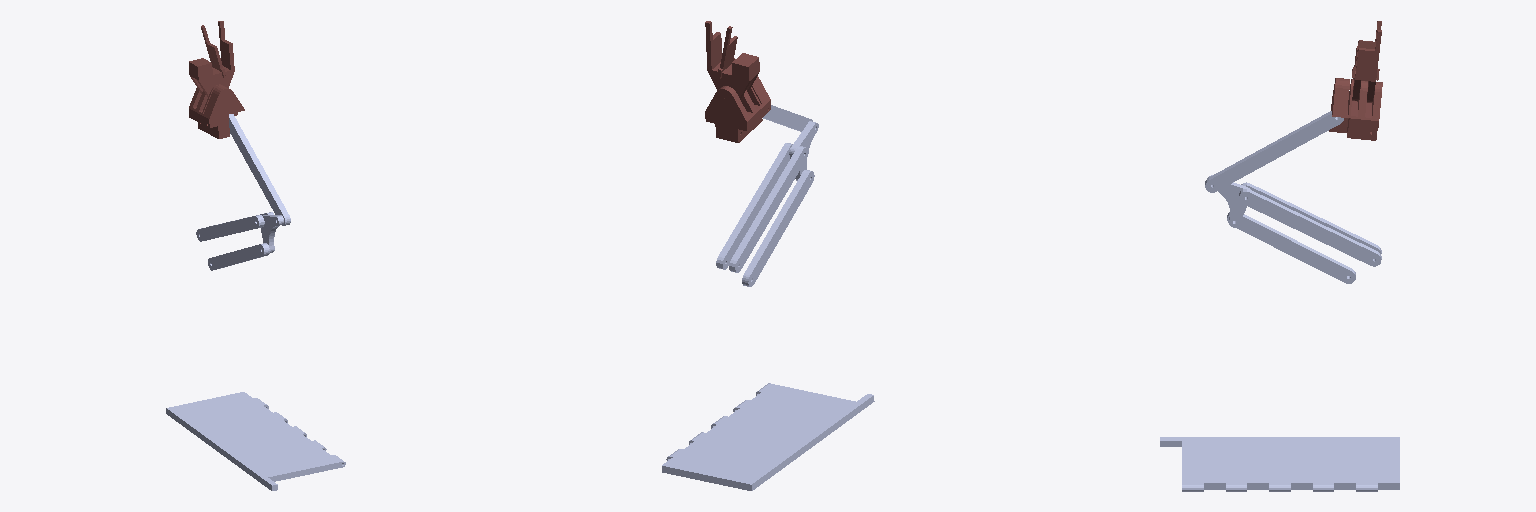
URDF robot description (URDF with fridge):
<?xml version="1.0" encoding="utf-8"?>
<!-- This URDF was automatically created by SolidWorks to URDF Exporter! Originally created by [author] ([email redacted]) 
     Commit Version: 1.6.0-4-g7f85cfe  Build Version: 1.6.7995.38578
     For more information, please see http://wiki.ros.org/sw_urdf_exporter -->
<robot
  name="URDF with fridge">
  <link
    name="base_link">
    <inertial>
      <origin
        xyz="0.0689431998771194 -0.0141220992321394 -0.300302033882626"
        rpy="0 0 0" />
      <mass
        value="5.73199162392309" />
      <inertia
        ixx="0.0472878884227461"
        ixy="-1.18684409079201E-05"
        ixz="-0.000695180601841699"
        iyy="0.0621317577117919"
        iyz="-3.4508866648248E-05"
        izz="0.0549594182577516" />
    </inertial>
    <visual>
      <origin
        xyz="0 0 0"
        rpy="0 0 0" />
      <geometry>
        <mesh
          filename="package://URDF with fridge/meshes/base_link.STL" />
      </geometry>
      <material
        name="">
        <color
          rgba="0.792156862745098 0.819607843137255 0.933333333333333 1" />
      </material>
    </visual>
    <collision>
      <origin
        xyz="0 0 0"
        rpy="0 0 0" />
      <geometry>
        <mesh
          filename="package://URDF with fridge/meshes/base_link.STL" />
      </geometry>
    </collision>
  </link>
  <link
    name="fridgeDoor">
    <inertial>
      <origin
        xyz="0.0736569393881498 0.114201229135015 -3.33066907387547E-16"
        rpy="0 0 0" />
      <mass
        value="0.433445243112743" />
      <inertia
        ixx="0.00331287924753315"
        ixy="-2.13930954220293E-05"
        ixz="1.72257837770235E-18"
        iyy="0.000759449566054937"
        iyz="4.86624442614954E-18"
        izz="0.00406508938639499" />
    </inertial>
    <visual>
      <origin
        xyz="0 0 0"
        rpy="0 0 0" />
      <geometry>
        <mesh
          filename="package://URDF with fridge/meshes/fridgeDoor.STL" />
      </geometry>
      <material
        name="">
        <color
          rgba="0.792156862745098 0.819607843137255 0.933333333333333 1" />
      </material>
    </visual>
    <collision>
      <origin
        xyz="0 0 0"
        rpy="0 0 0" />
      <geometry>
        <mesh
          filename="package://URDF with fridge/meshes/fridgeDoor.STL" />
      </geometry>
    </collision>
  </link>
  <joint
    name="F1"
    type="continuous">
    <origin
      xyz="0.13865629709213 0 -0.283835687229188"
      rpy="0 -0.030784802234591 -3.14159265358979" />
    <parent
      link="base_link" />
    <child
      link="fridgeDoor" />
    <axis
      xyz="0 -1 0" />
  </joint>
  <link
    name="turning_base">
    <inertial>
      <origin
        xyz="-0.0267697026327348 0.00488148698796461 0.0222183347728628"
        rpy="0 0 0" />
      <mass
        value="0.19237125582213" />
      <inertia
        ixx="0.000135901413995399"
        ixy="-1.33820761853295E-06"
        ixz="2.84315818360693E-06"
        iyy="0.000156555561267971"
        iyz="2.6996128156746E-06"
        izz="0.000197919660234674" />
    </inertial>
    <visual>
      <origin
        xyz="0 0 0"
        rpy="0 0 0" />
      <geometry>
        <mesh
          filename="package://URDF with fridge/meshes/turning_base.STL" />
      </geometry>
      <material
        name="">
        <color
          rgba="0.792156862745098 0.819607843137255 0.933333333333333 1" />
      </material>
    </visual>
    <collision>
      <origin
        xyz="0 0 0"
        rpy="0 0 0" />
      <geometry>
        <mesh
          filename="package://URDF with fridge/meshes/turning_base.STL" />
      </geometry>
    </collision>
  </link>
  <joint
    name="J1"
    type="continuous">
    <origin
      xyz="0.0660497283649592 0.0323022563864429 0.0145420702819405"
      rpy="1.5707963267949 -0.00401861891135302 0" />
    <parent
      link="base_link" />
    <child
      link="turning_base" />
    <axis
      xyz="0 0 -1" />
  </joint>
  <link
    name="lowerFront">
    <inertial>
      <origin
        xyz="-2.22044604925031E-16 -0.0999111796922045 -0.00999999999999947"
        rpy="0 0 0" />
      <mass
        value="0.0855737940510451" />
      <inertia
        ixx="0.000328606447348668"
        ixy="-8.20986684126231E-19"
        ixz="-4.72153637505962E-22"
        iyy="3.53584860057504E-06"
        iyz="-2.15784962745792E-16"
        izz="0.000330716066048393" />
    </inertial>
    <visual>
      <origin
        xyz="0 0 0"
        rpy="0 0 0" />
      <geometry>
        <mesh
          filename="package://URDF with fridge/meshes/lowerFront.STL" />
      </geometry>
      <material
        name="">
        <color
          rgba="0.792156862745098 0.819607843137255 0.933333333333333 1" />
      </material>
    </visual>
    <collision>
      <origin
        xyz="0 0 0"
        rpy="0 0 0" />
      <geometry>
        <mesh
          filename="package://URDF with fridge/meshes/lowerFront.STL" />
      </geometry>
    </collision>
  </link>
  <joint
    name="J2"
    type="revolute">
    <origin
      xyz="-0.0274999999999557 0.0125000000000202 0.0300000000015584"
      rpy="-1.57079632679639 0.490375448312762 1.5707963267945" />
    <parent
      link="turning_base" />
    <child
      link="lowerFront" />
    <axis
      xyz="0.470957125376388 0.882156100731162 0" />
    <limit
      lower="0"
      upper="6.288"
      effort="0"
      velocity="0" />
  </joint>
  <link
    name="triangle">
    <inertial>
      <origin
        xyz="0.0128671162531902 0.0149668569116932 0.00499999999999999"
        rpy="0 0 0" />
      <mass
        value="0.0191246861766036" />
      <inertia
        ixx="5.62289539865078E-06"
        ixy="2.73395813990835E-06"
        ixz="-3.15454872629373E-22"
        iyy="4.65318566936928E-06"
        iyz="3.74745449762105E-22"
        izz="9.95733629841E-06" />
    </inertial>
    <visual>
      <origin
        xyz="0 0 0"
        rpy="0 0 0" />
      <geometry>
        <mesh
          filename="package://URDF with fridge/meshes/triangle.STL" />
      </geometry>
      <material
        name="">
        <color
          rgba="0.792156862745098 0.819607843137255 0.933333333333333 1" />
      </material>
    </visual>
    <collision>
      <origin
        xyz="0 0 0"
        rpy="0 0 0" />
      <geometry>
        <mesh
          filename="package://URDF with fridge/meshes/triangle.STL" />
      </geometry>
    </collision>
  </link>
  <joint
    name="J3"
    type="continuous">
    <origin
      xyz="0 -0.199999999999989 -0.0150000000000651"
      rpy="0 0 3.0192892910529" />
    <parent
      link="lowerFront" />
    <child
      link="triangle" />
    <axis
      xyz="0 0 1" />
  </joint>
  <link
    name="upperHalfbacklink">
    <inertial>
      <origin
        xyz="0.0414635494994406 5.62050406216485E-16 0.00499999999999991"
        rpy="0 0 0" />
      <mass
        value="0.0193744467859455" />
      <inertia
        ixx="8.00416835228508E-07"
        ixy="1.14349447879331E-20"
        ixz="1.47050174175862E-21"
        iyy="1.54913654040111E-05"
        iyz="-3.70090868325708E-23"
        izz="1.59688747928072E-05" />
    </inertial>
    <visual>
      <origin
        xyz="0 0 0"
        rpy="0 0 0" />
      <geometry>
        <mesh
          filename="package://URDF with fridge/meshes/upperHalfbacklink.STL" />
      </geometry>
      <material
        name="">
        <color
          rgba="0.792156862745098 0.819607843137255 0.933333333333333 1" />
      </material>
    </visual>
    <collision>
      <origin
        xyz="0 0 0"
        rpy="0 0 0" />
      <geometry>
        <mesh
          filename="package://URDF with fridge/meshes/upperHalfbacklink.STL" />
      </geometry>
    </collision>
  </link>
  <joint
    name="J5"
    type="continuous">
    <origin
      xyz="0.0450000000000081 0 0.0199999999999996"
      rpy="3.14159265358979 0 -1.43084807582469" />
    <parent
      link="triangle" />
    <child
      link="upperHalfbacklink" />
    <axis
      xyz="0 0 -1" />
  </joint>
  <link
    name="upperHalfFrontlink">
    <inertial>
      <origin
        xyz="0.0463904561233809 -6.45317133063372E-14 7.9956874454723E-14"
        rpy="0 0 0" />
      <mass
        value="0.0214124502395769" />
      <inertia
        ixx="8.84174131725659E-07"
        ixy="-2.26260234963957E-17"
        ixz="3.03407180299729E-17"
        iyy="2.08029877158262E-05"
        iyz="-9.12136632753397E-24"
        izz="2.13302876768922E-05" />
    </inertial>
    <visual>
      <origin
        xyz="0 0 0"
        rpy="0 0 0" />
      <geometry>
        <mesh
          filename="package://URDF with fridge/meshes/upperHalfFrontlink.STL" />
      </geometry>
      <material
        name="">
        <color
          rgba="0.792156862745098 0.819607843137255 0.933333333333333 1" />
      </material>
    </visual>
    <collision>
      <origin
        xyz="0 0 0"
        rpy="0 0 0" />
      <geometry>
        <mesh
          filename="package://URDF with fridge/meshes/upperHalfFrontlink.STL" />
      </geometry>
    </collision>
  </link>
  <joint
    name="J6"
    type="continuous">
    <origin
      xyz="0 0.0500000000000889 -0.00499999999985195"
      rpy="3.14159265358979 0 -2.48003154709769" />
    <parent
      link="triangle" />
    <child
      link="upperHalfFrontlink" />
    <axis
      xyz="0 0 -1" />
  </joint>
  <link
    name="lowerfrontLink">
    <inertial>
      <origin
        xyz="2.77555756156289E-17 -0.0863342210093204 0.0247054628952012"
        rpy="0 0 0" />
      <mass
        value="0.0953394410565643" />
      <inertia
        ixx="0.000470411650298866"
        ixy="5.4315987742682E-19"
        ixz="1.51753137276197E-21"
        iyy="3.95014826174653E-06"
        iyz="-3.09405752680569E-16"
        izz="0.000472772807876337" />
    </inertial>
    <visual>
      <origin
        xyz="0 0 0"
        rpy="0 0 0" />
      <geometry>
        <mesh
          filename="package://URDF with fridge/meshes/lowerfrontLink.STL" />
      </geometry>
      <material
        name="">
        <color
          rgba="0.792156862745098 0.819607843137255 0.933333333333333 1" />
      </material>
    </visual>
    <collision>
      <origin
        xyz="0 0 0"
        rpy="0 0 0" />
      <geometry>
        <mesh
          filename="package://URDF with fridge/meshes/lowerfrontLink.STL" />
      </geometry>
    </collision>
  </link>
  <joint
    name="J4"
    type="revolute">
    <origin
      xyz="0 -0.2 0.01"
      rpy="3.1416 0 -1.0177" />
    <parent
      link="lowerFront" />
    <child
      link="lowerfrontLink" />
    <axis
      xyz="0 0 -1" />
    <limit
      lower="0"
      upper="6.288"
      effort="0"
      velocity="0" />
  </joint>
  <link
    name="backhalfGripper">
    <inertial>
      <origin
        xyz="-0.0250028133017937 0.0239301160957166 0.00141734074678149"
        rpy="0 0 0" />
      <mass
        value="1.53802958602338" />
      <inertia
        ixx="0.000909413538569685"
        ixy="8.26533997142431E-05"
        ixz="-2.76680034671548E-05"
        iyy="0.000912566548096114"
        iyz="-4.94357740447192E-05"
        izz="0.00115501581802408" />
    </inertial>
    <visual>
      <origin
        xyz="0 0 0"
        rpy="0 0 0" />
      <geometry>
        <mesh
          filename="package://URDF with fridge/meshes/backhalfGripper.STL" />
      </geometry>
      <material
        name="">
        <color
          rgba="0.537254901960784 0.349019607843137 0.337254901960784 1" />
      </material>
    </visual>
    <collision>
      <origin
        xyz="0 0 0"
        rpy="0 0 0" />
      <geometry>
        <mesh
          filename="package://URDF with fridge/meshes/backhalfGripper.STL" />
      </geometry>
    </collision>
  </link>
  <joint
    name="J7"
    type="continuous">
    <origin
      xyz="0 -0.2 0.022327"
      rpy="3.1416 0 2.5048" />
    <parent
      link="lowerfrontLink" />
    <child
      link="backhalfGripper" />
    <axis
      xyz="0 0 0" />
  </joint>
  <link
    name="frontGripper">
    <inertial>
      <origin
        xyz="-0.000216464748702488 0.0283235783013317 0.0142900639859024"
        rpy="0 0 0" />
      <mass
        value="0.558596679661737" />
      <inertia
        ixx="0.000309404274315498"
        ixy="-3.91459968046765E-05"
        ixz="3.65468624887361E-06"
        iyy="0.000256279098899188"
        iyz="8.0770060142967E-06"
        izz="0.00046459335100017" />
    </inertial>
    <visual>
      <origin
        xyz="0 0 0"
        rpy="0 0 0" />
      <geometry>
        <mesh
          filename="package://URDF with fridge/meshes/frontGripper.STL" />
      </geometry>
      <material
        name="">
        <color
          rgba="0.537254901960784 0.349019607843137 0.337254901960784 1" />
      </material>
    </visual>
    <collision>
      <origin
        xyz="0 0 0"
        rpy="0 0 0" />
      <geometry>
        <mesh
          filename="package://URDF with fridge/meshes/frontGripper.STL" />
      </geometry>
    </collision>
  </link>
  <joint
    name="J8"
    type="revolute">
    <origin
      xyz="-0.054 0.0035 -8.2845E-05"
      rpy="1.5708 1.5515 -3.1416" />
    <parent
      link="backhalfGripper" />
    <child
      link="frontGripper" />
    <axis
      xyz="0 0 0" />
    <limit
      lower="-1.57"
      upper="1.57"
      effort="0"
      velocity="0" />
  </joint>
  <link
    name="2ndHalfGripper">
    <inertial>
      <origin
        xyz="0.0309607104904639 -4.59355418674923E-05 0.0171444074906643"
        rpy="0 0 0" />
      <mass
        value="0.0686737389522782" />
      <inertia
        ixx="6.40644623542164E-06"
        ixy="-1.58915253494999E-10"
        ixz="3.10523081266725E-06"
        iyy="2.87092893917181E-05"
        iyz="3.68993537350604E-11"
        izz="2.25895985442529E-05" />
    </inertial>
    <visual>
      <origin
        xyz="0 0 0"
        rpy="0 0 0" />
      <geometry>
        <mesh
          filename="package://URDF with fridge/meshes/2ndHalfGripper.STL" />
      </geometry>
      <material
        name="">
        <color
          rgba="0.537254901960784 0.349019607843137 0.337254901960784 1" />
      </material>
    </visual>
    <collision>
      <origin
        xyz="0 0 0"
        rpy="0 0 0" />
      <geometry>
        <mesh
          filename="package://URDF with fridge/meshes/2ndHalfGripper.STL" />
      </geometry>
    </collision>
  </link>
  <joint
    name="J9"
    type="revolute">
    <origin
      xyz="0.012523 0.027447 -0.004"
      rpy="0 0 1.7772" />
    <parent
      link="frontGripper" />
    <child
      link="2ndHalfGripper" />
    <axis
      xyz="0 0 0" />
    <limit
      lower="-0.78"
      upper="78"
      effort="0"
      velocity="0" />
  </joint>
  <link
    name="lowerHalffrontlink">
    <inertial>
      <origin
        xyz="0.0463904561233884 -6.08402217494586E-14 7.99707522425308E-14"
        rpy="0 0 0" />
      <mass
        value="0.0214124502395769" />
      <inertia
        ixx="8.84174131725664E-07"
        ixy="-2.26194060514953E-17"
        ixz="3.03389346498544E-17"
        iyy="2.08029877158262E-05"
        iyz="-6.19824220911003E-23"
        izz="2.13302876768923E-05" />
    </inertial>
    <visual>
      <origin
        xyz="0 0 0"
        rpy="0 0 0" />
      <geometry>
        <mesh
          filename="package://URDF with fridge/meshes/lowerHalffrontlink.STL" />
      </geometry>
      <material
        name="">
        <color
          rgba="0.792156862745098 0.819607843137255 0.933333333333333 1" />
      </material>
    </visual>
    <collision>
      <origin
        xyz="0 0 0"
        rpy="0 0 0" />
      <geometry>
        <mesh
          filename="package://URDF with fridge/meshes/lowerHalffrontlink.STL" />
      </geometry>
    </collision>
  </link>
  <joint
    name="J10"
    type="continuous">
    <origin
      xyz="-0.015 0.05 -0.0074928"
      rpy="-3.1416 0 0.92013" />
    <parent
      link="backhalfGripper" />
    <child
      link="lowerHalffrontlink" />
    <axis
      xyz="0 0 0" />
  </joint>
  <link
    name="LowerHalfBacklink">
    <inertial>
      <origin
        xyz="0.0414635494994407 6.93889390390723E-18 0.00499999999999999"
        rpy="0 0 0" />
      <mass
        value="0.0193744467859455" />
      <inertia
        ixx="8.00416835228504E-07"
        ixy="-3.3881317890172E-21"
        ixz="4.52614911442815E-21"
        iyy="1.54913654040111E-05"
        iyz="1.88996064051875E-22"
        izz="1.59688747928072E-05" />
    </inertial>
    <visual>
      <origin
        xyz="0 0 0"
        rpy="0 0 0" />
      <geometry>
        <mesh
          filename="package://URDF with fridge/meshes/LowerHalfBacklink.STL" />
      </geometry>
      <material
        name="">
        <color
          rgba="0.792156862745098 0.819607843137255 0.933333333333333 1" />
      </material>
    </visual>
    <collision>
      <origin
        xyz="0 0 0"
        rpy="0 0 0" />
      <geometry>
        <mesh
          filename="package://URDF with fridge/meshes/LowerHalfBacklink.STL" />
      </geometry>
    </collision>
  </link>
  <joint
    name="J11"
    type="fixed">
    <origin
      xyz="-0.0225 -0.022855 0.065355"
      rpy="-1.5708 -1.0628 1.5708" />
    <parent
      link="turning_base" />
    <child
      link="LowerHalfBacklink" />
    <axis
      xyz="0 0 0" />
  </joint>
</robot>

--- What the picture shows (computed from the rendered views, not written in the file) ---
Views: 3 orthographic renders of the robot side by side, from view 1: azimuth 30°, elevation 25°; view 2: azimuth 150°, elevation 25°; view 3: azimuth 270°, elevation 25°.
Model URDF with fridge with 13 links and 12 joints (4 revolute, 7 continuous, 1 fixed), rooted at base_link, posed all joints at 0.
Visible links, largest first — view 1: fridgeDoor, backhalfGripper, frontGripper, lowerFront, upperHalfFrontlink, lowerHalffrontlink; view 2: fridgeDoor, lowerFront, backhalfGripper, frontGripper, LowerHalfBacklink, upperHalfbacklink; view 3: fridgeDoor, lowerFront, backhalfGripper, upperHalfFrontlink, lowerHalffrontlink, LowerHalfBacklink, frontGripper, upperHalfbacklink, triangle.
Boxes of the visible links, <box> form: fridgeDoor: <box>166,392,345,490</box>; backhalfGripper: <box>189,84,244,138</box>; frontGripper: <box>189,21,234,96</box>; lowerFront: <box>196,212,273,241</box>; upperHalfFrontlink: <box>253,165,290,225</box>; lowerHalffrontlink: <box>229,114,260,172</box>; fridgeDoor: <box>662,383,874,490</box>; lowerFront: <box>716,143,808,272</box>; backhalfGripper: <box>705,76,770,142</box>; frontGripper: <box>705,21,759,99</box>; LowerHalfBacklink: <box>742,223,782,286</box>; upperHalfbacklink: <box>774,170,814,232</box>; fridgeDoor: <box>1160,437,1399,491</box>; lowerFront: <box>1239,182,1381,266</box>; backhalfGripper: <box>1329,78,1382,140</box>; upperHalfFrontlink: <box>1205,144,1277,192</box>; lowerHalffrontlink: <box>1271,111,1343,157</box>; LowerHalfBacklink: <box>1288,240,1355,283</box>; frontGripper: <box>1352,30,1381,102</box>; upperHalfbacklink: <box>1227,212,1294,253</box>; triangle: <box>1208,175,1250,227</box>.
Size in the robot's own frame: 0.1501 by 0.33 by 0.6709 metres.
10 mesh visuals loaded from 13 distinct referenced files (10 binary STL); not drawn: 3 (reference not matched to a file when rendering).